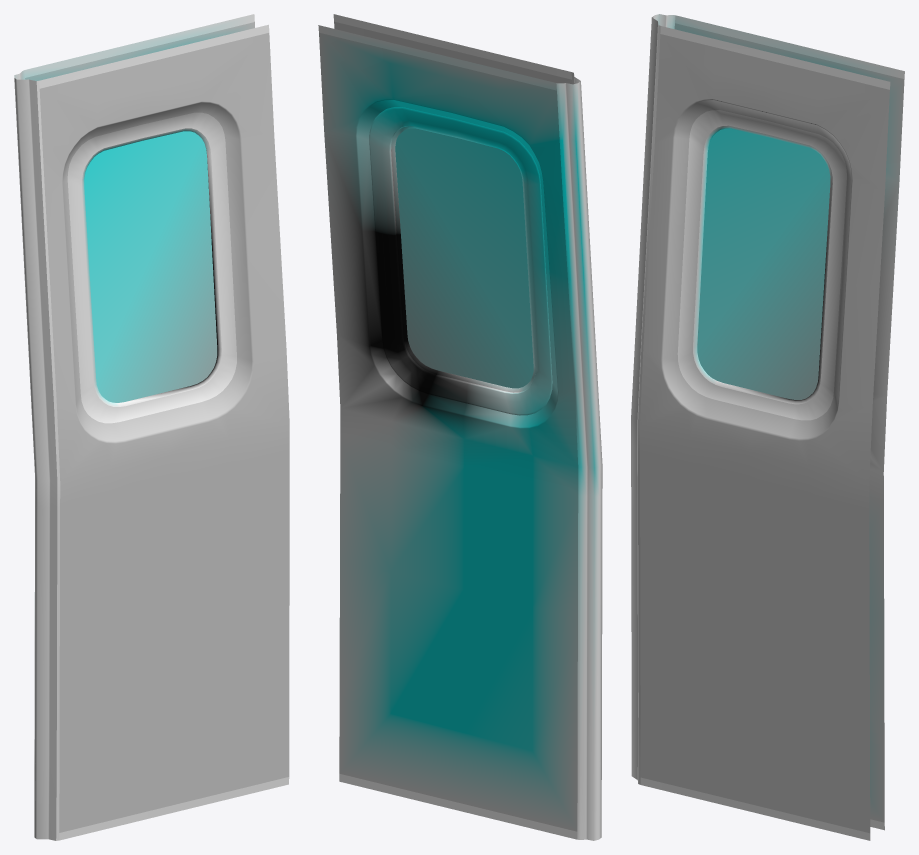
File: SM_door_wall_01.fbx
3 renders of one model, left to right at view 1: azimuth 30°, elevation 25°; view 2: azimuth 150°, elevation 25°; view 3: azimuth 330°, elevation 25°, orthographic. The views are drawn at different scales.
Parts seen in each view (by area): view 1: SM_door_wall_01_LOD0; view 2: SM_door_wall_01_LOD0; view 3: SM_door_wall_01_LOD0.
Part boxes in pixels (left/top/right/bottom): SM_door_wall_01_LOD0: left=14, top=14, right=289, bottom=840; SM_door_wall_01_LOD0: left=318, top=14, right=602, bottom=840; SM_door_wall_01_LOD0: left=631, top=14, right=904, bottom=840.
Size of the model in its own units: 75.49 by 219 by 18.94.
